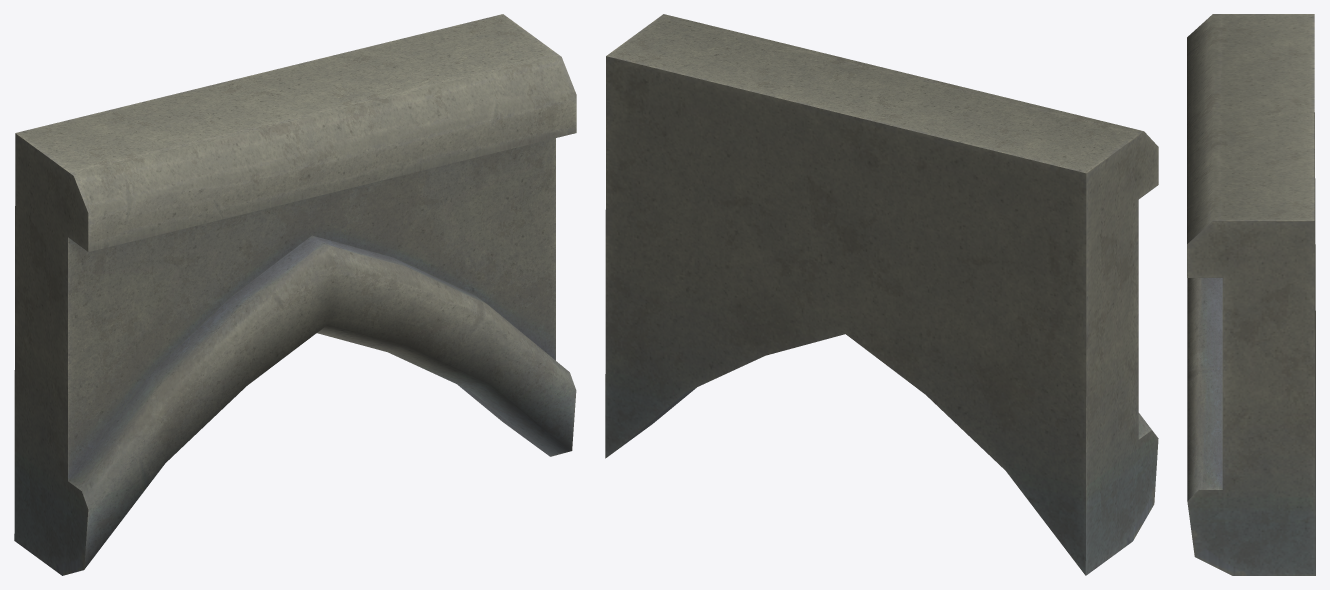
Rendered from AD_Wall_B_01.fbx.
The picture shows the model from 3 angles, left to right: view 1: azimuth 30°, elevation 25°; view 2: azimuth 150°, elevation 25°; view 3: azimuth 270°, elevation 25°; orthographic projection. The views are drawn at different scales.
Parts seen in each view (by area): view 1: AD_Wall_B_01; view 2: AD_Wall_B_01; view 3: AD_Wall_B_01.
Boxes of the visible parts, x1,y1,x2,y2 form: AD_Wall_B_01: (14, 14, 576, 575); AD_Wall_B_01: (605, 14, 1158, 575); AD_Wall_B_01: (1187, 14, 1315, 575).
Bounding box in the file's own units: 692 × 553 × 182.
Materials: 1 (1 with a texture image).
